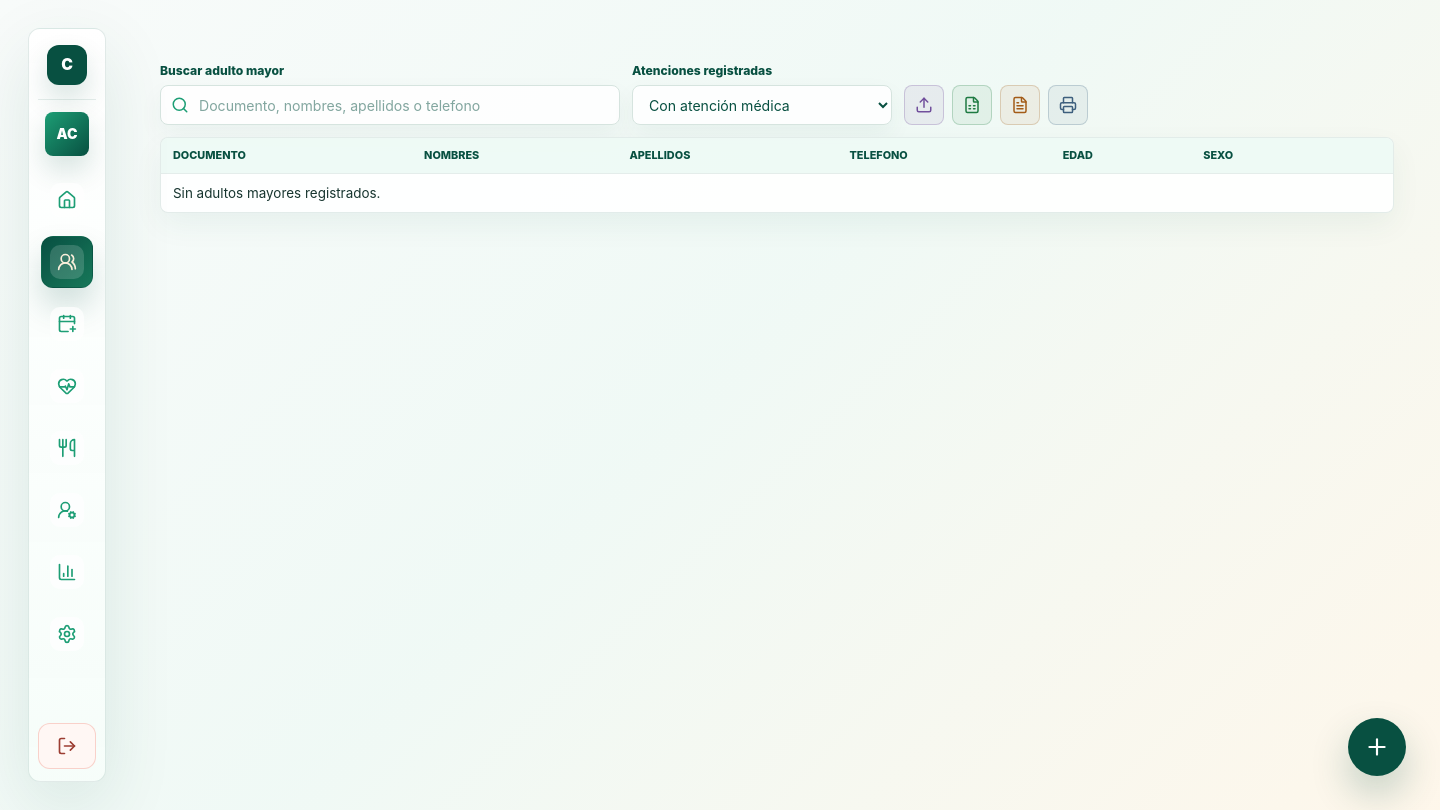
Test: App adultos mayores flow › opens nursing history from the nursing attention filter
Select "Con atención de enfermería" in the dropdown labelled "Atenciones registradas" at {"x": 762, "y": 105}, box [632,85,892,125]
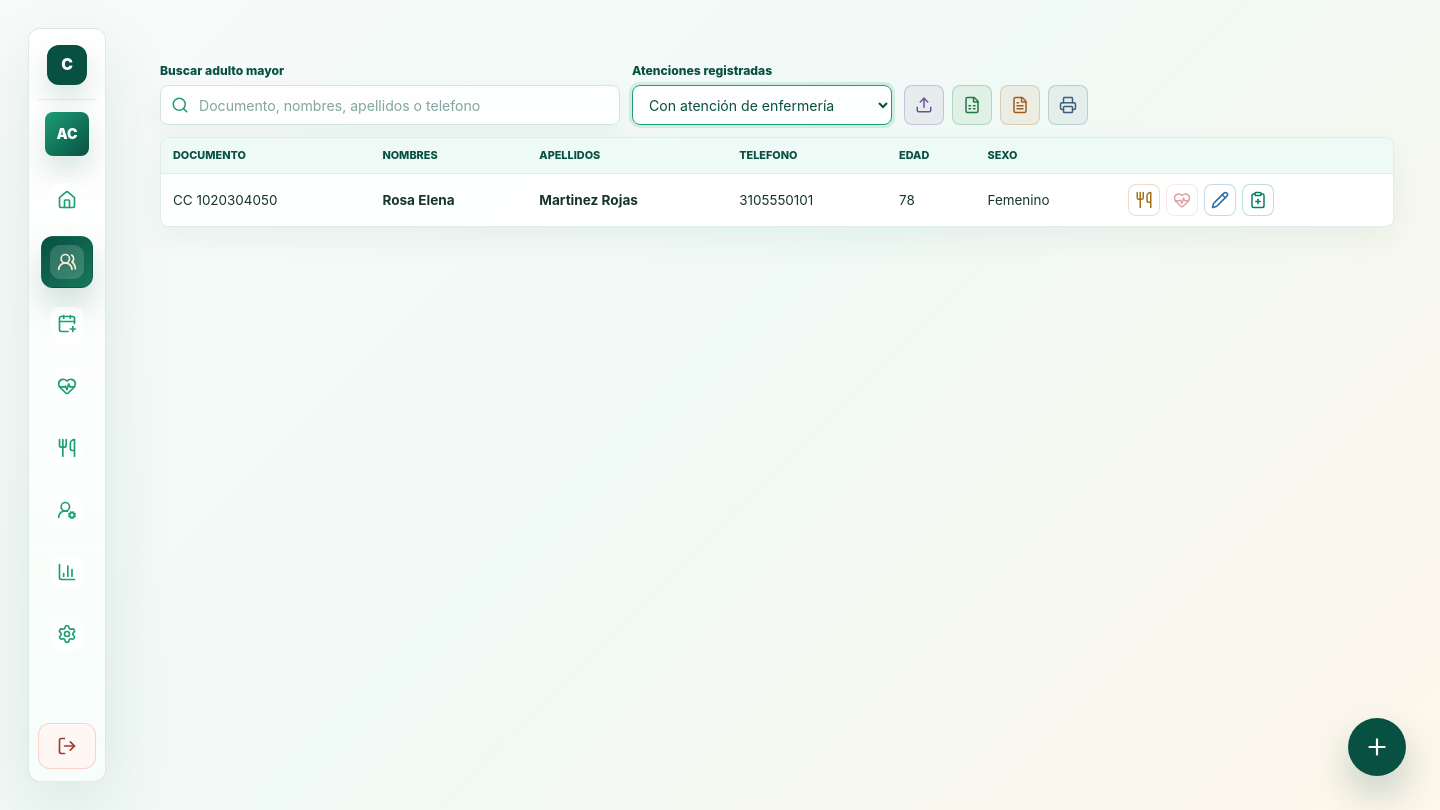
Click the button named "Historia de enfermería de Rosa Elena Martinez Rojas" at {"x": 1258, "y": 200}, box [1242,184,1274,216]
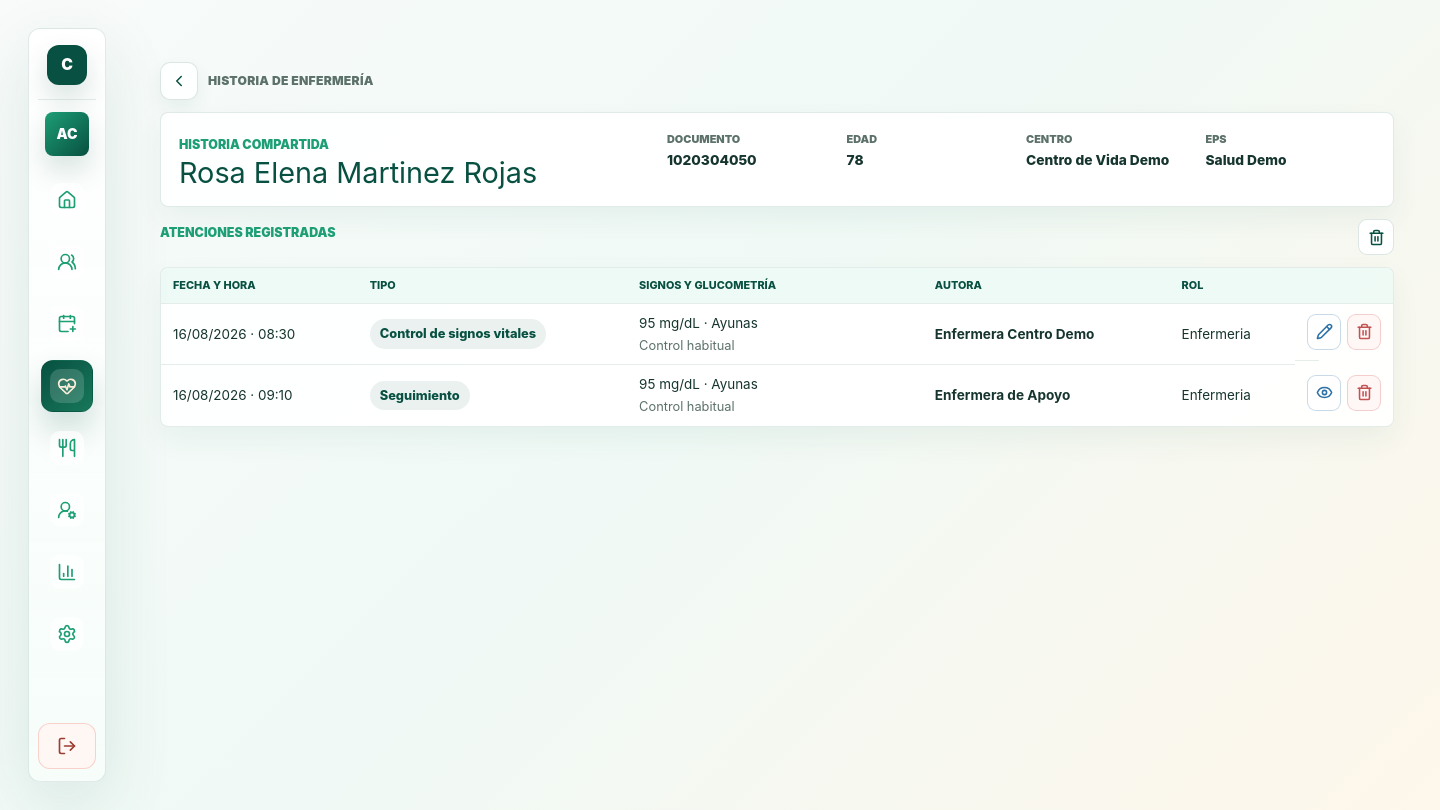
Expected: the text "Historia compartida" is shown, [179,137,329,152]
